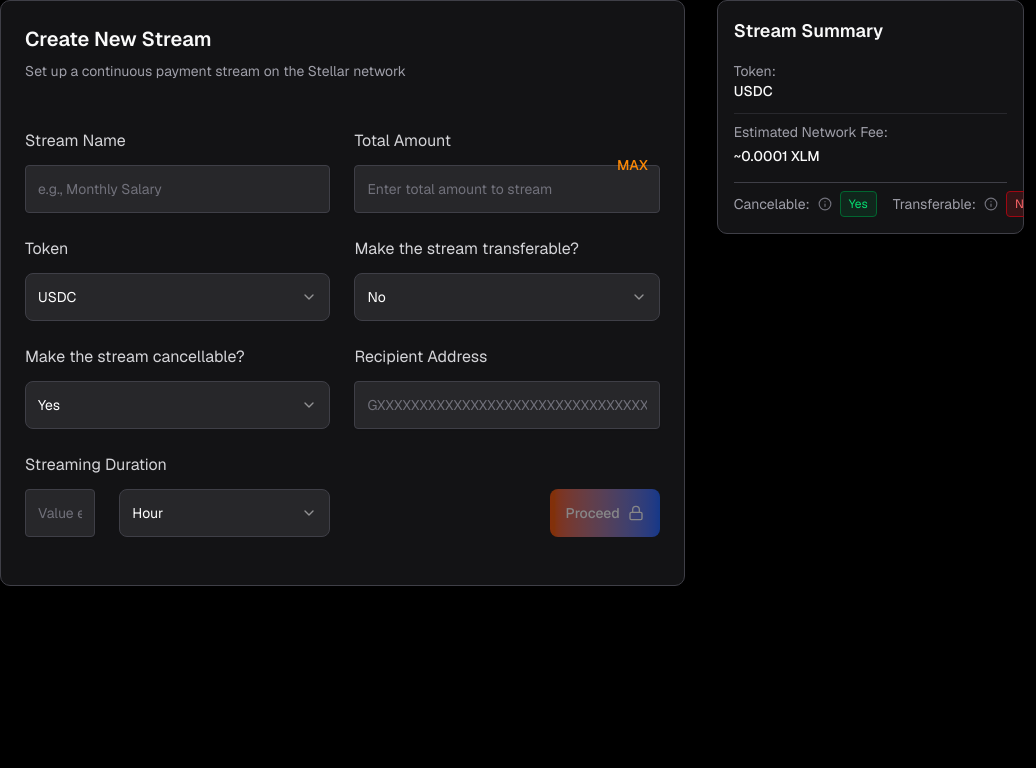
Test case: CreatePaymentStream Component › fills the full balance when MAX is clicked for a non-XLM token
Click the button with aria-label "fill maximum": (632, 165) x1=617 y1=155 x2=648 y2=175
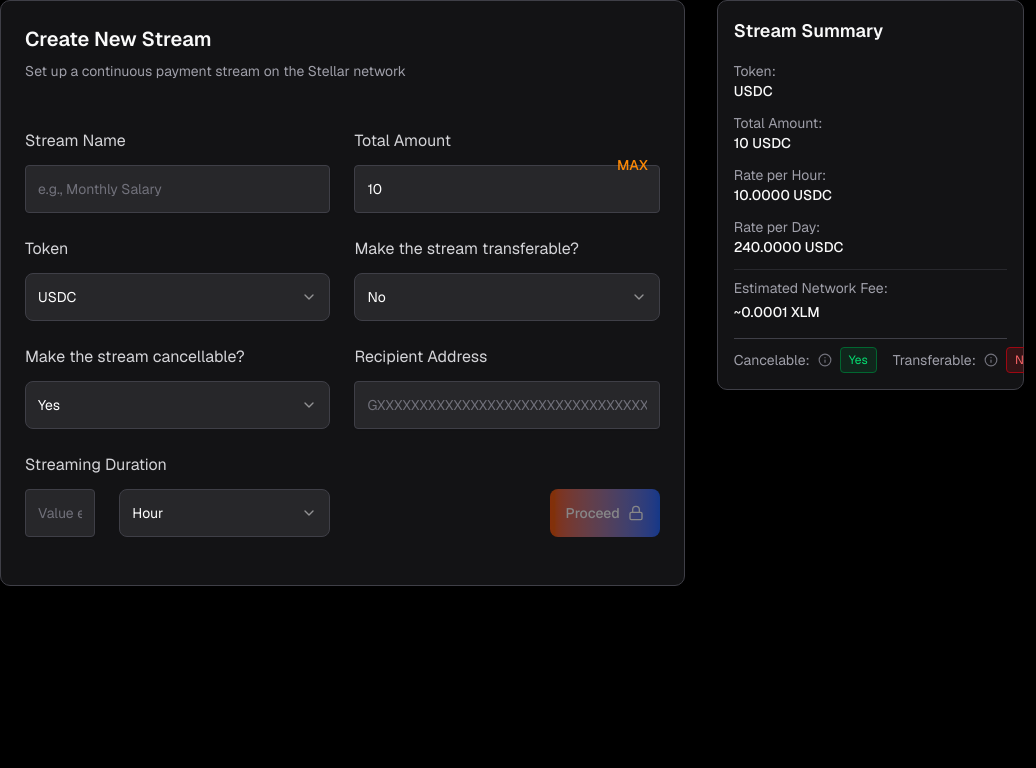
Result: the number field with placeholder "Enter total amount to stream" holds "10" at x1=354 y1=165 x2=660 y2=213
